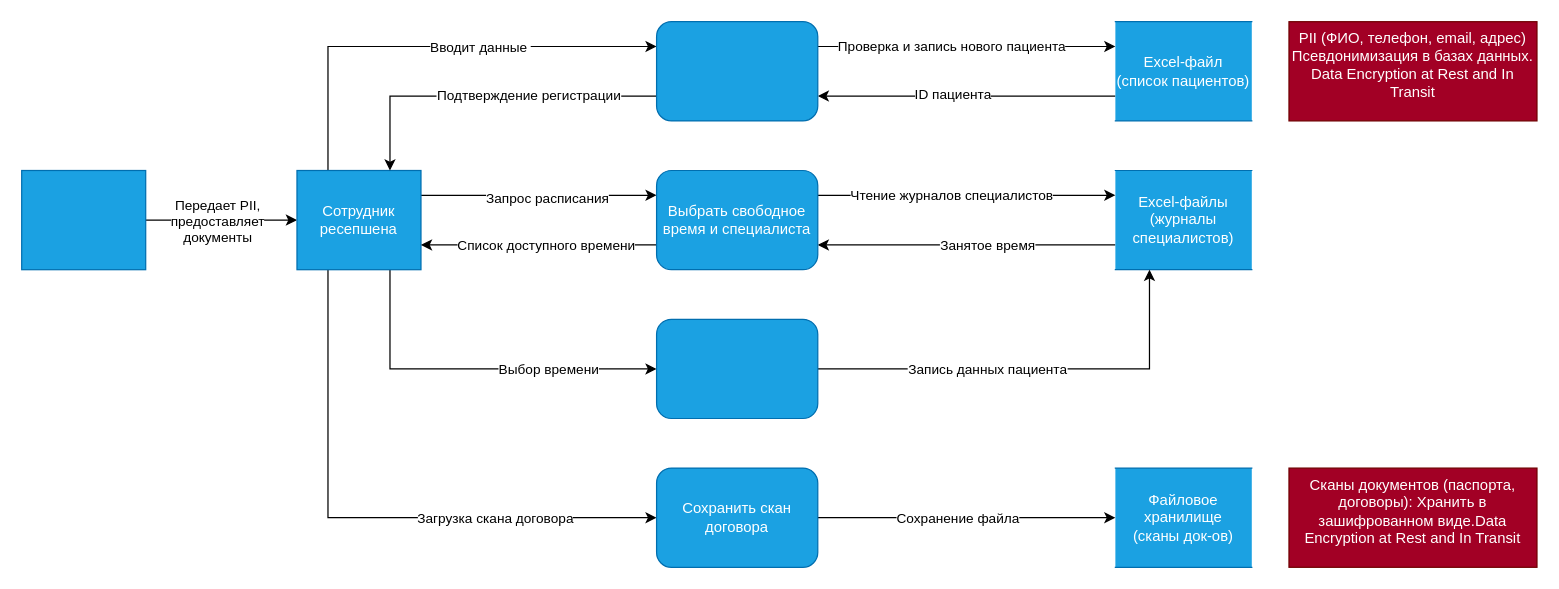
Image size: 1559x589. Some labels were removed from this diagram. Each missing label, with the centre of its shape:
"Зафиксировать запись в журнале" belongs at point 736,368.
"Обновить / создать пациента" belongs at point 736,70.
"Пациент" belongs at point 83,219.
